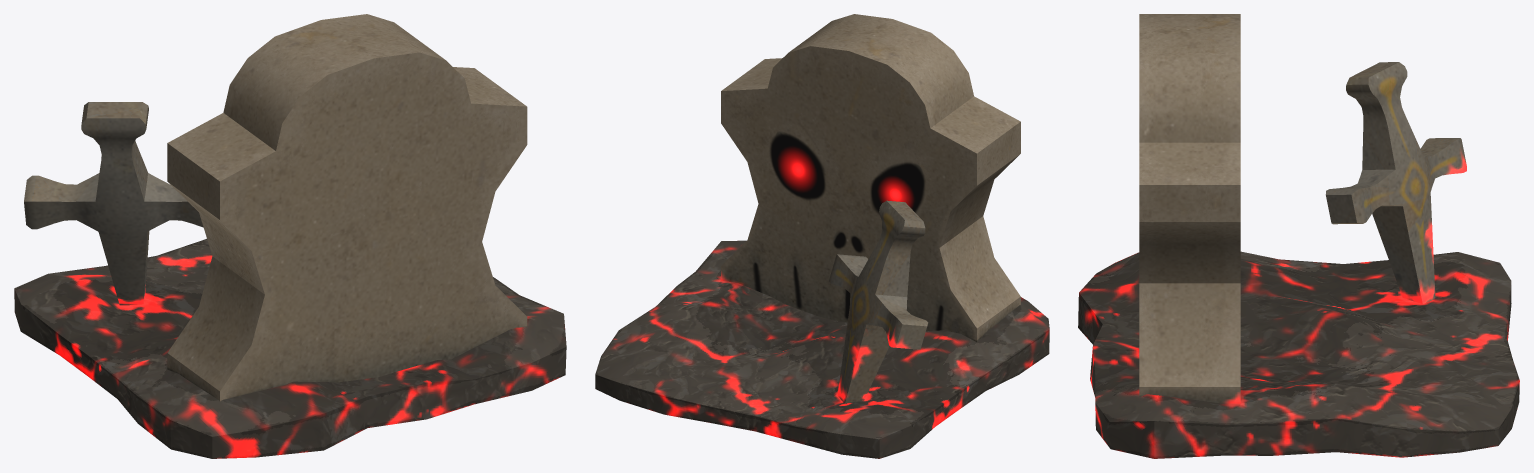
File: SM_PRP_SkullGraveyard.fbx
The picture shows the model from 3 angles, left to right: view 1: azimuth 30°, elevation 25°; view 2: azimuth 150°, elevation 25°; view 3: azimuth 270°, elevation 25°; orthographic projection. The views are drawn at different scales.
Visible parts, largest first — view 1: m_SkullGraveyard_low; view 2: m_SkullGraveyard_low; view 3: m_SkullGraveyard_low.
Part boxes in pixels (left/top/right/bottom): m_SkullGraveyard_low: left=14, top=14, right=566, bottom=458; m_SkullGraveyard_low: left=595, top=14, right=1049, bottom=458; m_SkullGraveyard_low: left=1078, top=14, right=1519, bottom=458.
Size of the model in its own units: 330 by 282 by 334.
1 material, 1 textured.
